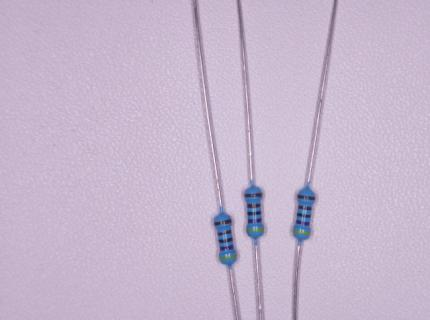Black band: (219, 237, 233, 243), (297, 213, 311, 218), (247, 211, 261, 216)
Brown band: (214, 219, 232, 226), (298, 194, 316, 200), (245, 193, 263, 197), (247, 203, 261, 208), (298, 205, 312, 210), (218, 230, 231, 235)
Violet band: (295, 220, 310, 226), (220, 245, 234, 251), (248, 218, 262, 223)
Yellow band: (219, 254, 237, 260), (293, 229, 310, 235), (246, 228, 264, 232)
